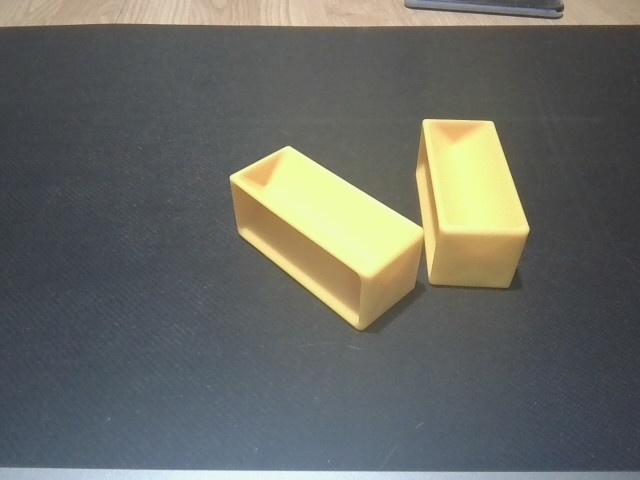YellowSample: (226, 143, 429, 334), (410, 114, 534, 293)
